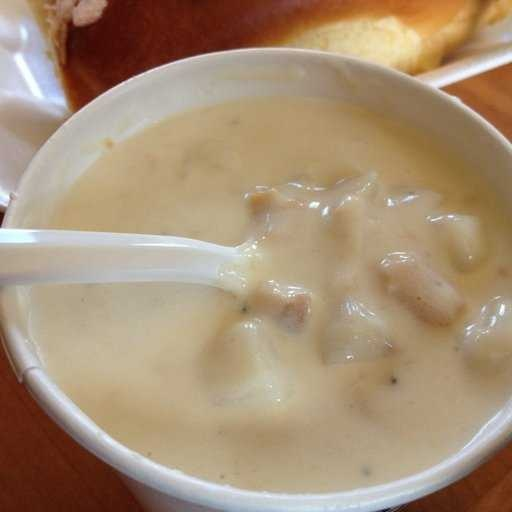soup: (68, 95, 488, 440)
